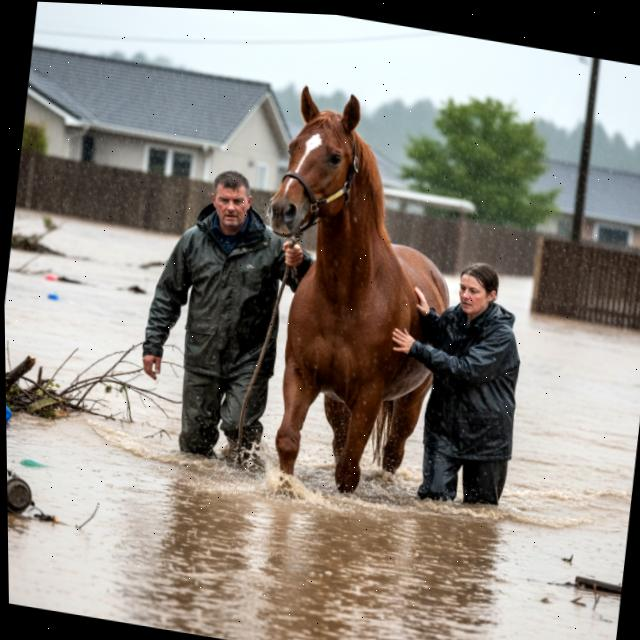civilian: (123, 156, 334, 472), (367, 226, 542, 526)
horse: (223, 65, 484, 536)
